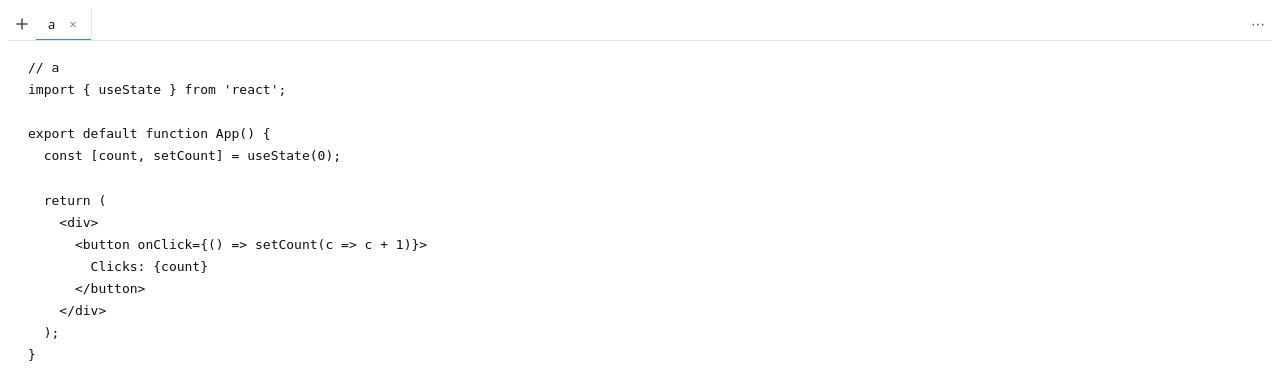
Test: LayoutProvider + LayoutRoot › end-to-end: + button adds a "New tab" placeholder; chip selects a kind
# Click "+" — should add a placeholder tab and activate it.
Step 1. Click the button named "New tab" → {"x": 22, "y": 24}, box [8,10,36,38]
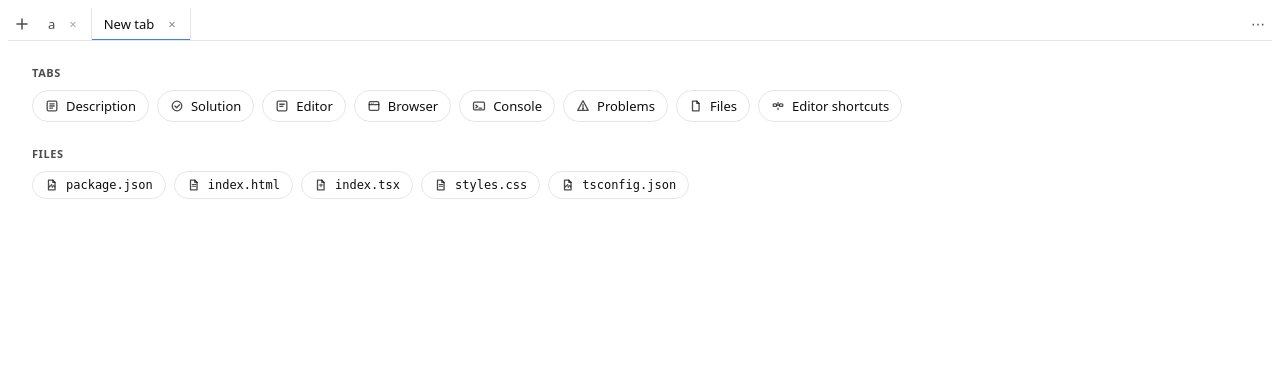
Result: the text "Tabs" is shown at [32,65,61,80]
# Pick "Console" — placeholder is replaced.
Step 2. Click the button "Console" → {"x": 507, "y": 106}, box [459,90,555,122]
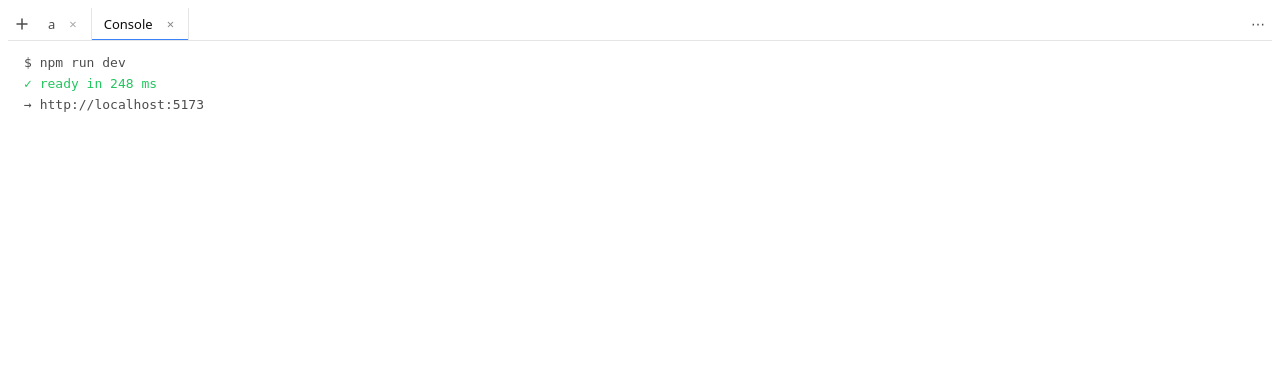
Result: the text "Tabs" is gone
Result: the text "$ npm run dev" is shown at [24,55,126,70]
